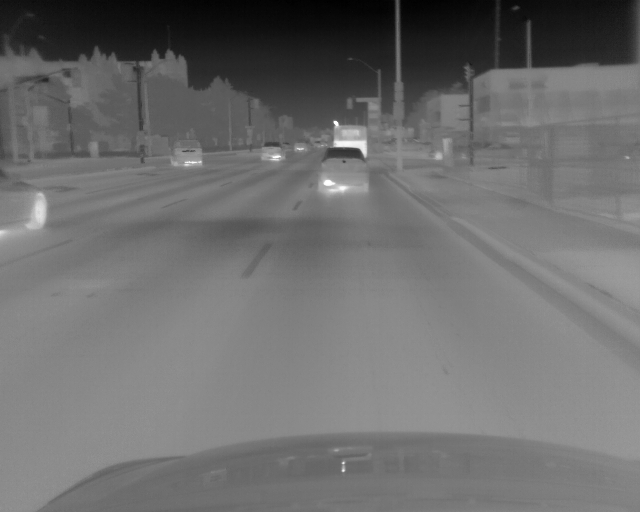car: (1, 164, 48, 231), (318, 148, 368, 195), (332, 124, 366, 157), (169, 138, 203, 167), (260, 141, 284, 162), (293, 140, 308, 155), (311, 140, 327, 150)
